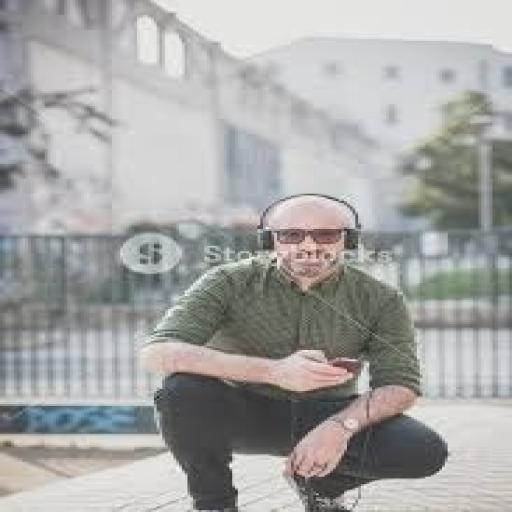listening_to_music: (137, 192, 453, 510)
